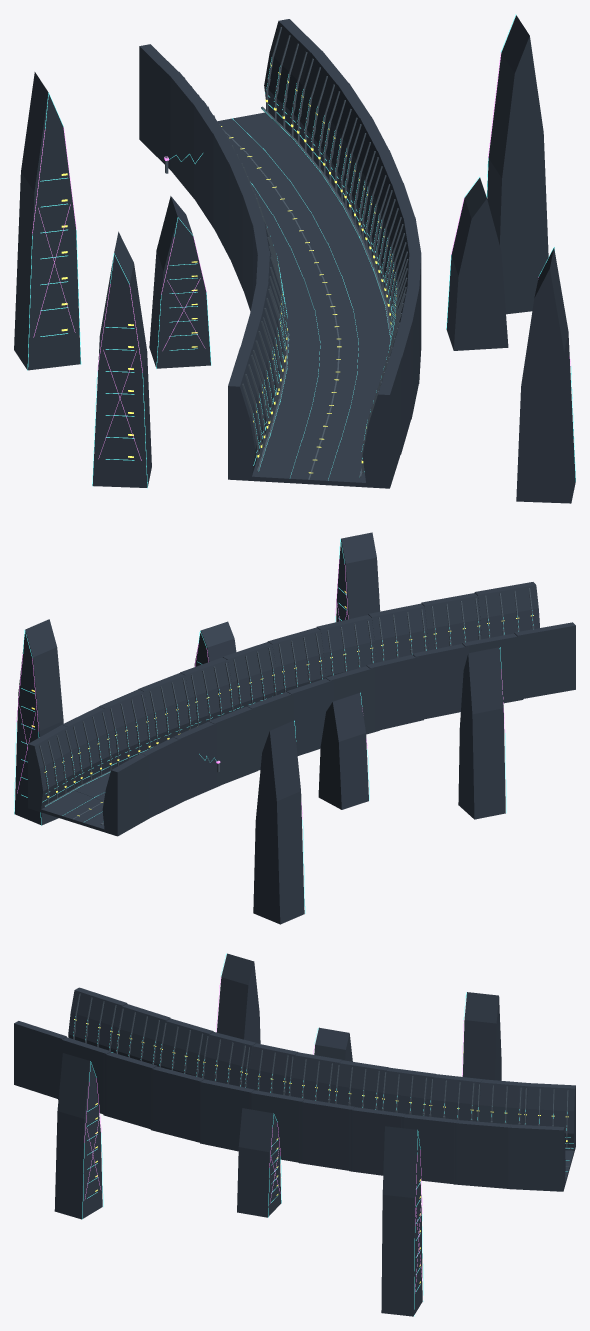
The model's file is route_batch_5.glb.
The picture shows the model from 3 angles, top to bottom: view 1: azimuth 30°, elevation 25°; view 2: azimuth 150°, elevation 25°; view 3: azimuth 270°, elevation 25°; orthographic projection. The views are drawn at different scales.
Parts seen in each view (by area): view 1: route_batch_5; view 2: route_batch_5; view 3: route_batch_5.
Boxes of the visible parts, <box> form: route_batch_5: <box>14,14,575,503</box>; route_batch_5: <box>14,532,575,924</box>; route_batch_5: <box>14,953,575,1316</box>.
Bounding box in the file's own units: 559 × 255 × 713.
